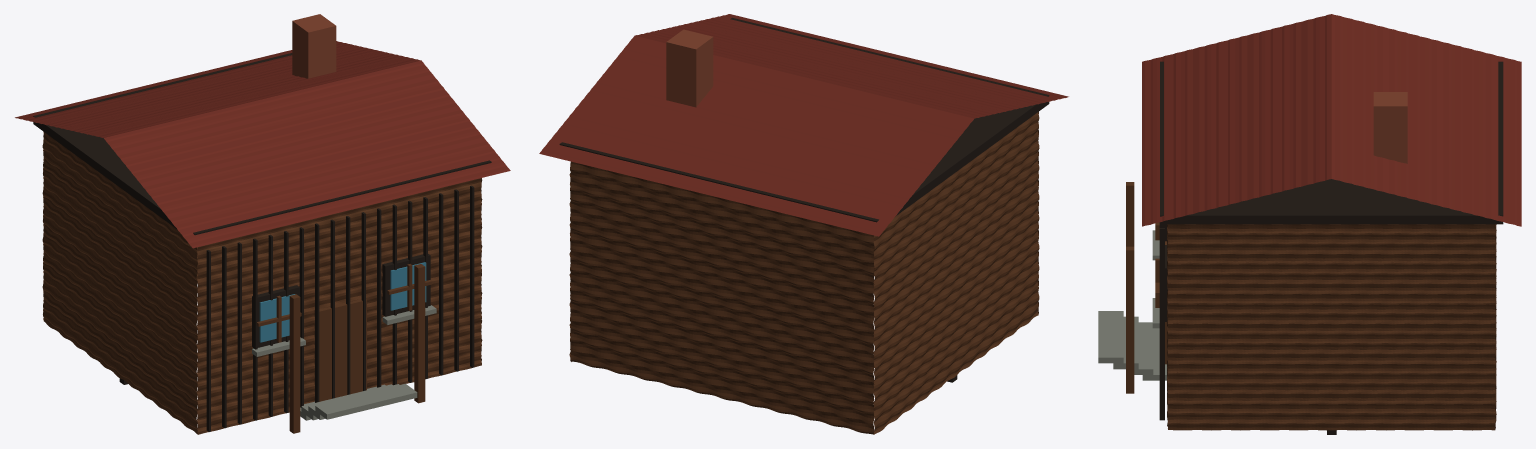
Rendered from pine_lodge_01.obj.
3 views of the same model, side by side, from view 1: azimuth 30°, elevation 25°; view 2: azimuth 150°, elevation 25°; view 3: azimuth 270°, elevation 25° (orthographic). The views are drawn at different scales.
Visible parts, largest first — view 1: pine_lodge_01; view 2: pine_lodge_01; view 3: pine_lodge_01.
Boxes of the visible parts, bbox=[...] form: pine_lodge_01: bbox=[15, 14, 510, 434]; pine_lodge_01: bbox=[539, 14, 1068, 434]; pine_lodge_01: bbox=[1098, 14, 1521, 434].
Bounding box in the file's own units: 7.39 × 6.36 × 8.02.
